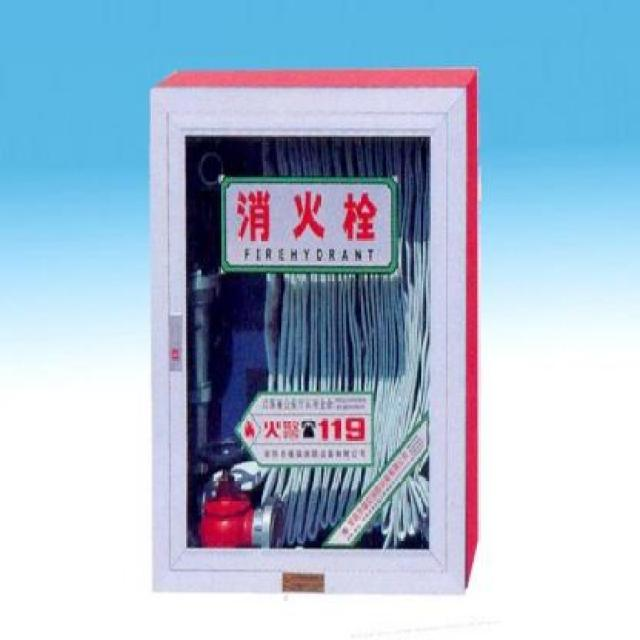firehydrant: (146, 65, 483, 600)
